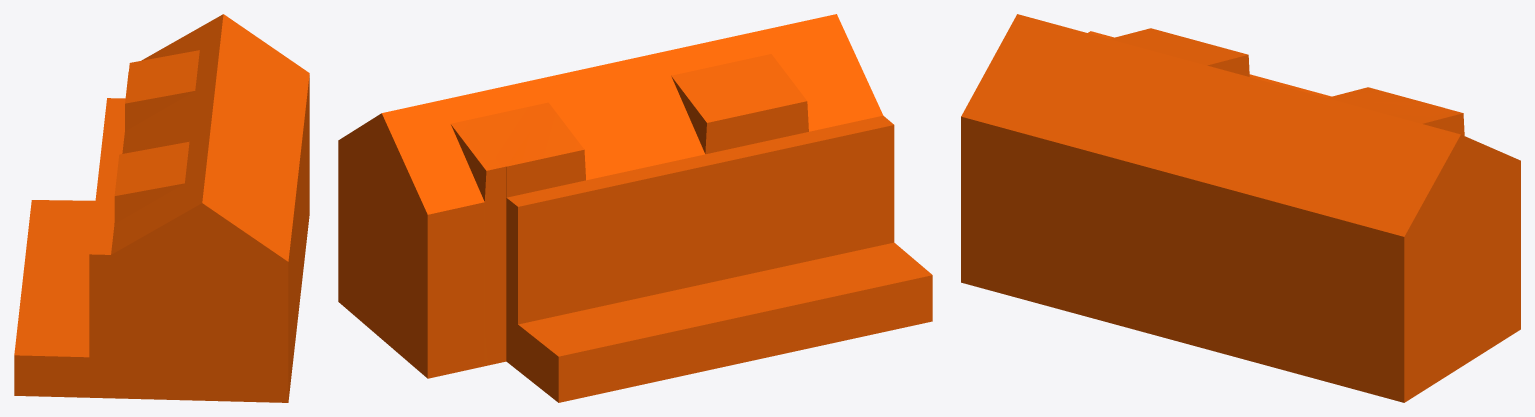
Rendered from DEHB01ALk00017QO.dae.
3 views of the same model, side by side, from view 1: azimuth 30°, elevation 25°; view 2: azimuth 150°, elevation 25°; view 3: azimuth 270°, elevation 25° (orthographic). The views are drawn at different scales.
Size of the model in its own units: 29.08 by 29.36 by 13.47.
